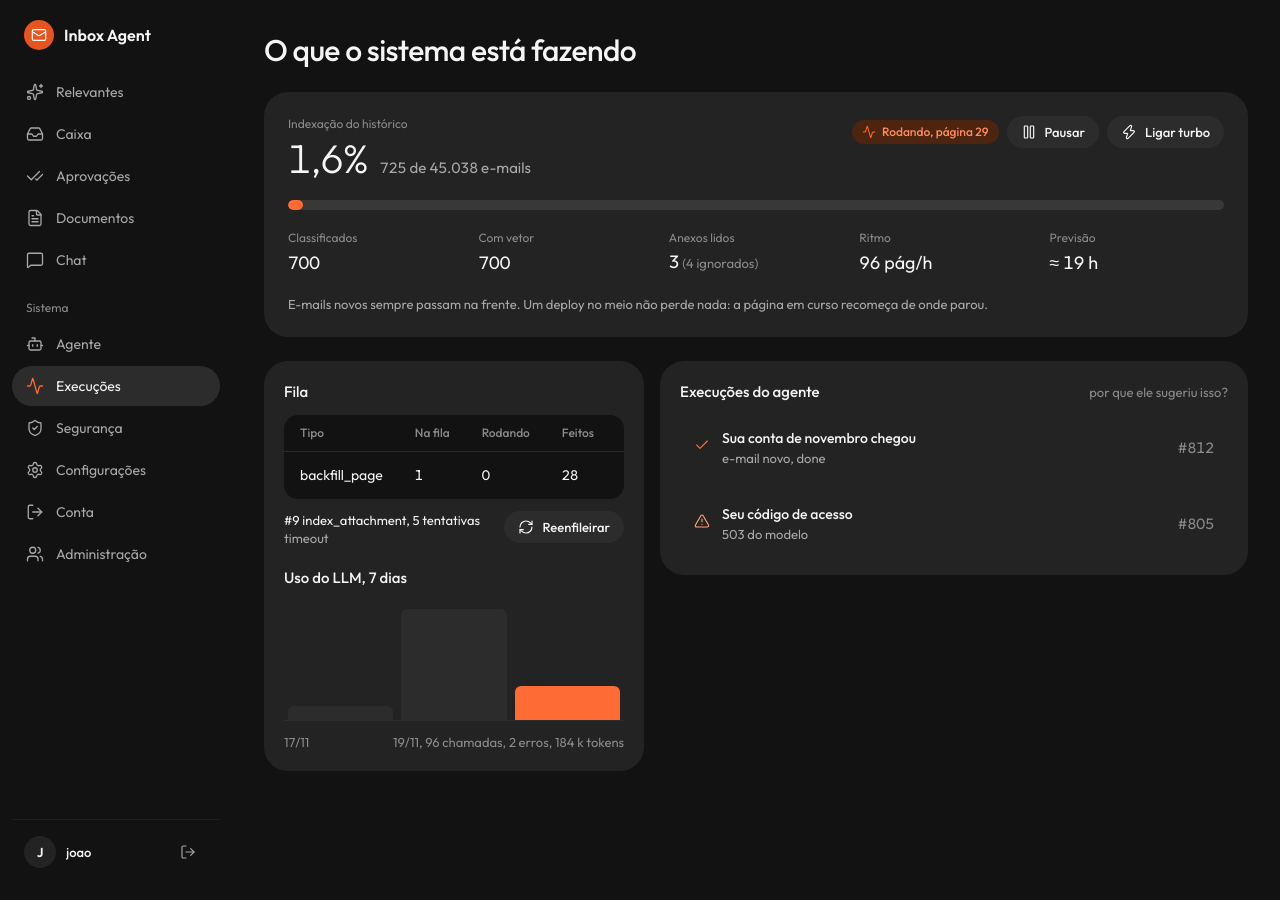
Scenario: turbo_toggle_on_the_progress_card
This screenshot has width=1280, height=900.
Later steps or results of the test are not shown.
Click the button "Ligar turbo": [1166, 132] box x1=1107 y1=116 x2=1224 y2=148
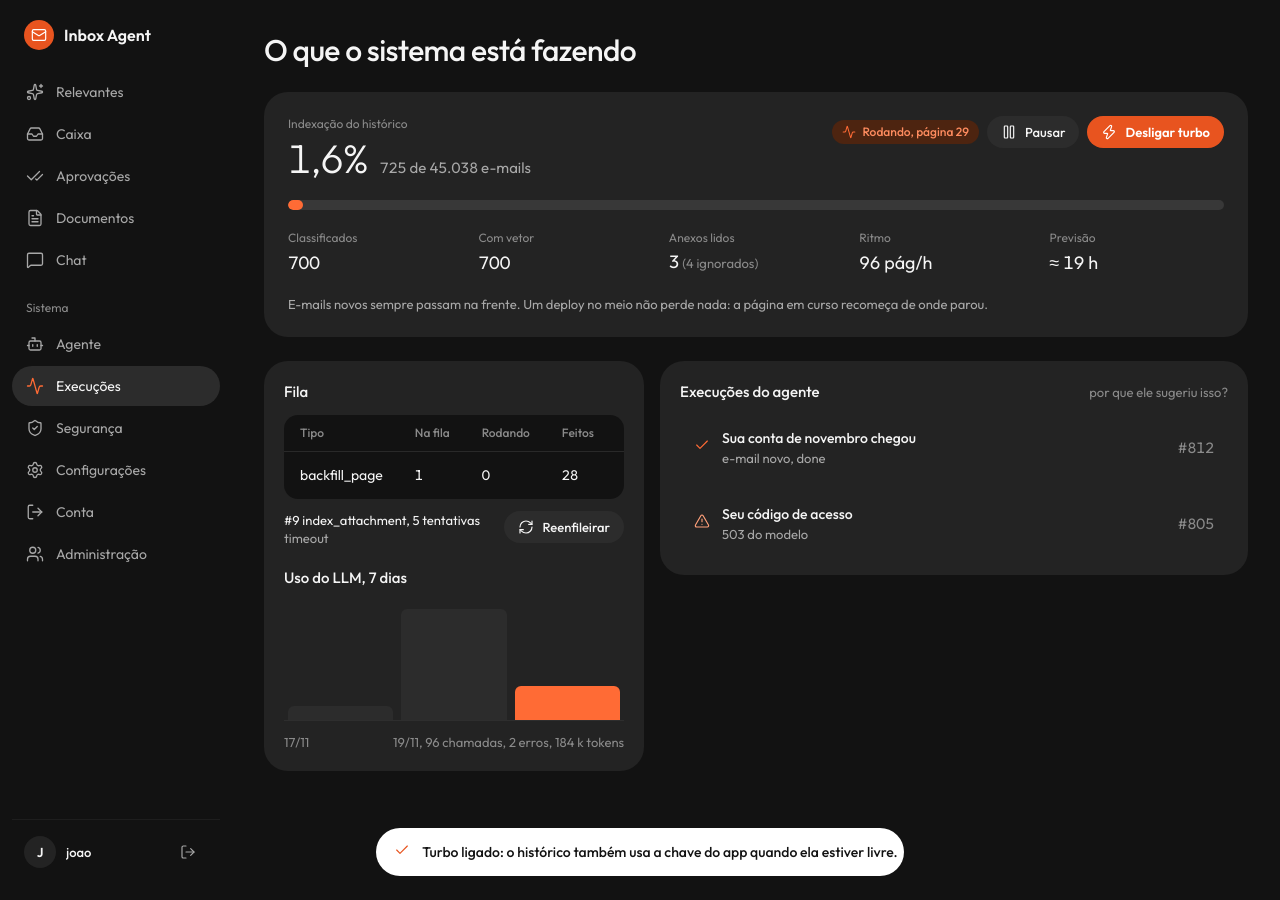
Expected: the button "Desligar turbo" is shown, x1=1088 y1=116 x2=1224 y2=148
